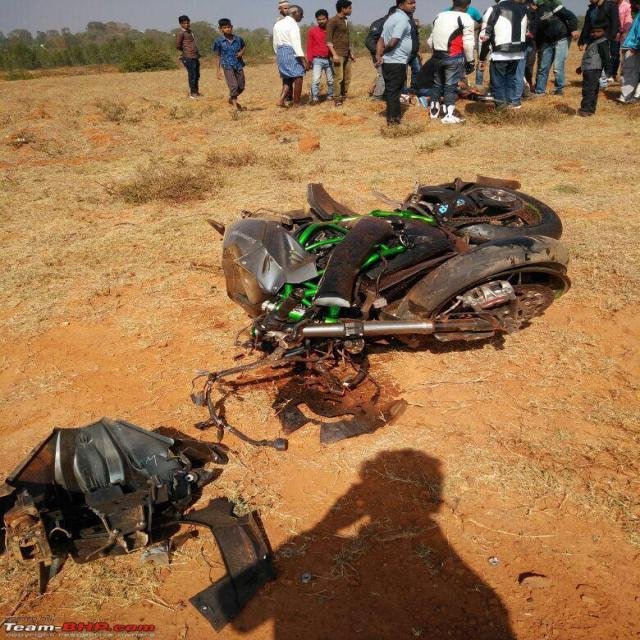accident: (3, 180, 570, 631)
